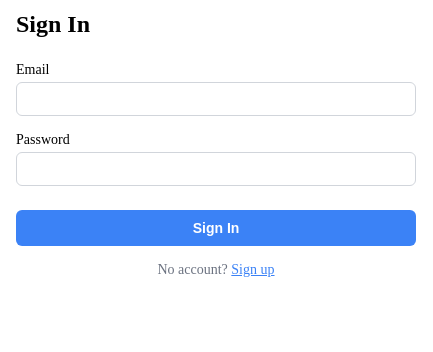
Test case: LoginPage › shows error on failed login
Type "bad@test.com" into the field. click: (216, 99)
box: [16, 82, 416, 116]
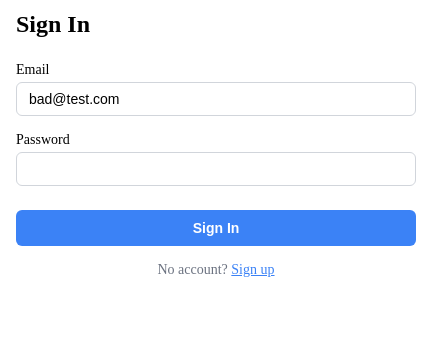
Type "wrong" into the password field. click: (216, 169)
box: [16, 152, 416, 186]
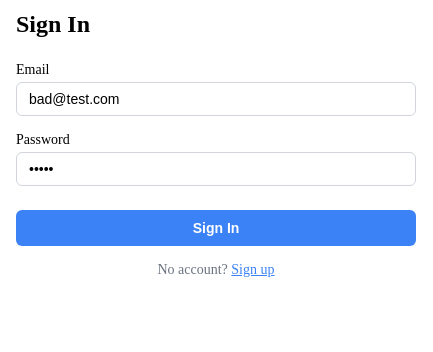
Click the button "Sign In". click: click(216, 228)
box: [16, 210, 416, 246]
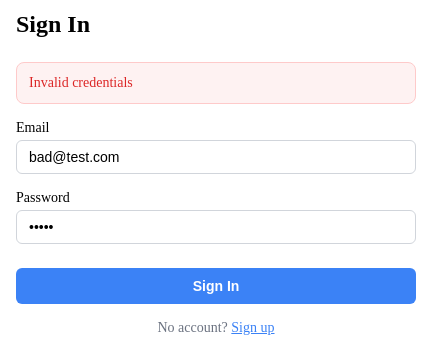
Expected: the text "Invalid credentials" is shown, [16, 62, 416, 104]
